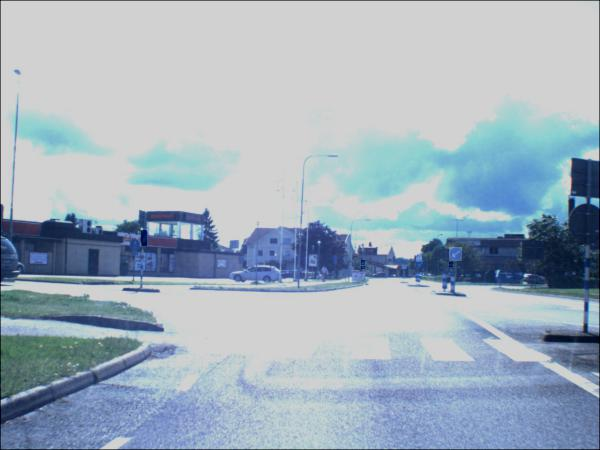PASS_RIGHT_SIDE: (449, 248, 463, 263), (141, 231, 148, 248), (416, 262, 424, 269), (402, 266, 408, 271)
PEDESTRIAN_CROSSING: (416, 255, 423, 263), (449, 263, 454, 269), (361, 261, 366, 267)
PRIORITY_ROAD: (361, 267, 366, 271)
